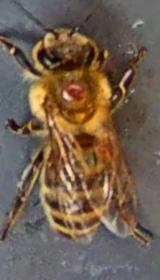varroa_mite: (57, 74, 93, 116)
